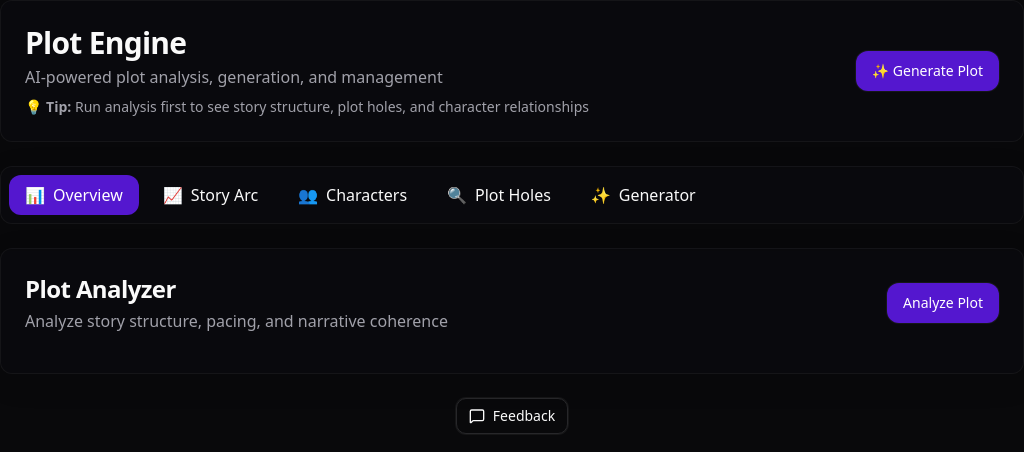
PlotEngineDashboard › should disable generate button while generating
This screenshot has width=1024, height=452.
Click the button with test id "generate-plot-button" at (927, 71), box [856,51,999,91]
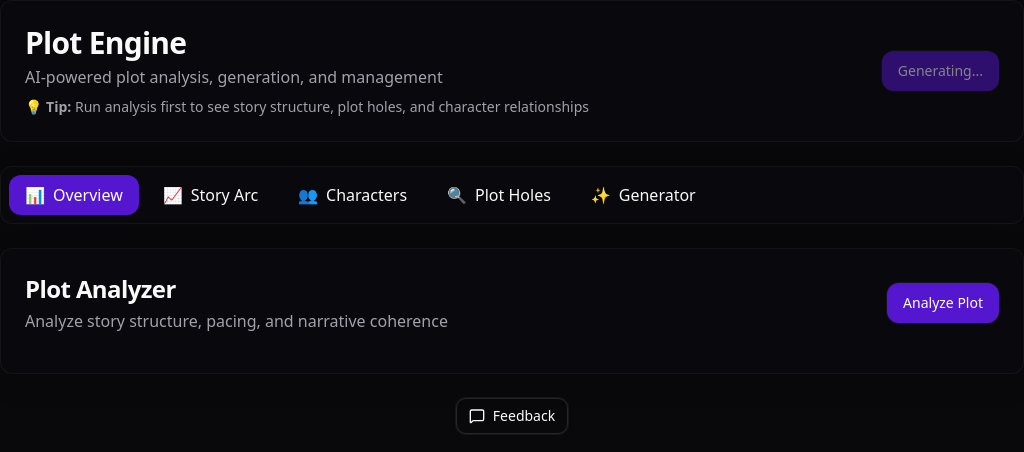
Expected: the button with test id "generate-plot-button" is disabled, [882,51,999,91]
Expected: the button with test id "generate-plot-button" shows "Generating", [882,51,999,91]
